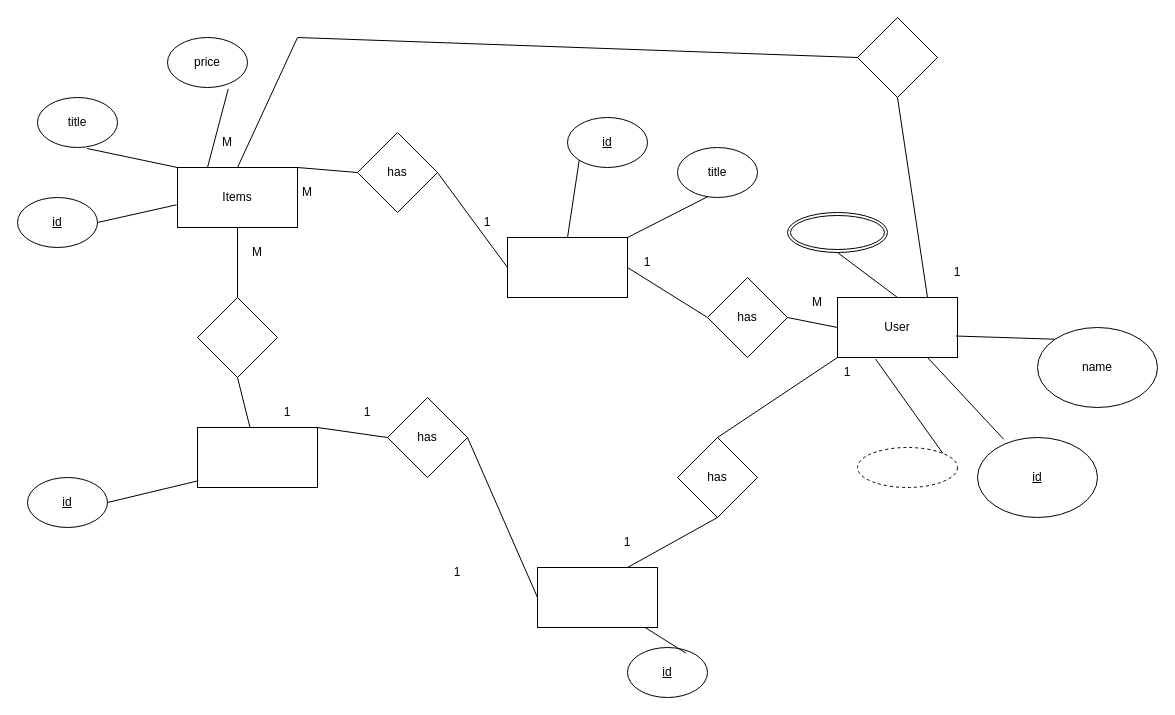
Image size: 1175x715. Some labels were removed from this diagram. The box of each missing label's shape, as (x1, y1, x2, y2) in pixels:
age: (856, 446, 958, 488)
contain: (196, 296, 278, 378)
Invoices: (536, 566, 658, 628)
order: (856, 16, 938, 98)
Orders: (196, 426, 318, 488)
phone no: (786, 212, 888, 252)
Restaurants: (506, 236, 628, 298)
